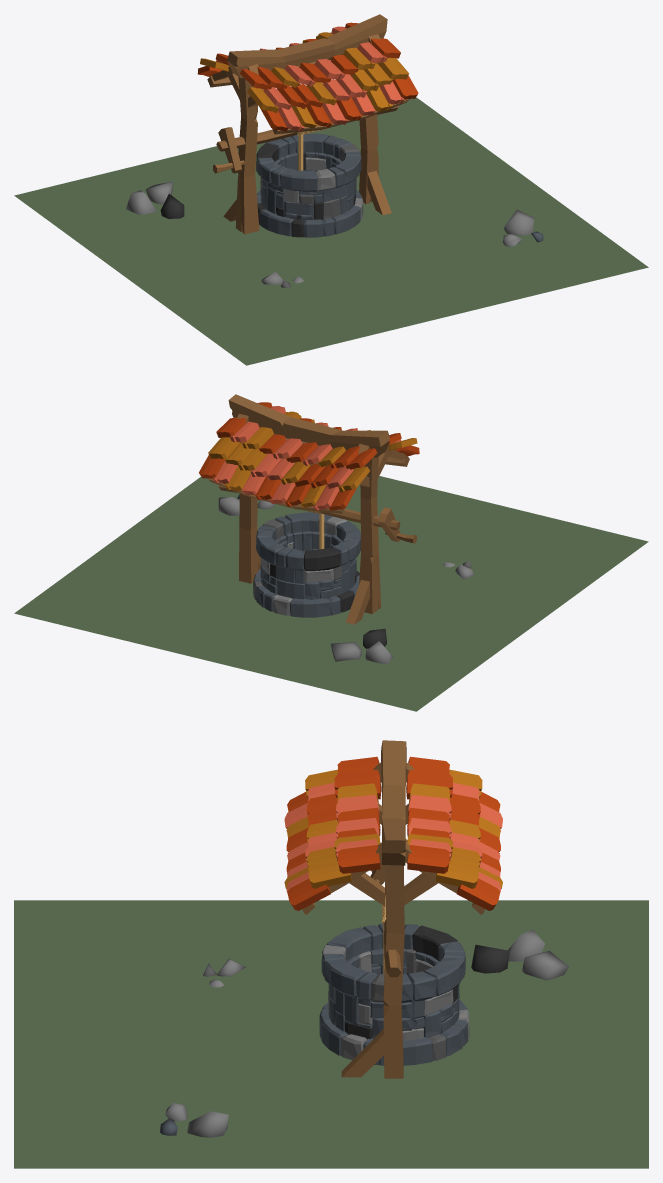
The model's file is low_poly_well-05.glb.
The picture shows the model from 3 angles, top to bottom: view 1: azimuth 30°, elevation 25°; view 2: azimuth 150°, elevation 25°; view 3: azimuth 270°, elevation 25°; orthographic projection. The views are drawn at different scales.
Visible parts, largest first — view 1: Plane, top, middle, Cube.005, Cube.001, base, Cube, tile.012, Cube.007, shaft, Cube.002, rock.019 (+3 smaller); view 2: Plane, top, middle, Cube.005, Cube.001, base, Cube, Cube.008, tile.012, Cube.002, tile.001, shaft (+2 smaller); view 3: Plane, top, middle, Cube, base, Cube.005, tile.030, tile.011, tile.010, tile.022, Cube.004, tile.024 (+19 smaller).
Boxes of the visible parts, x1,y1,x2,y2 form: Plane: [14, 97, 648, 365]; top: [256, 133, 361, 191]; middle: [260, 152, 356, 219]; Cube.005: [227, 14, 387, 78]; Cube.001: [235, 77, 259, 234]; base: [256, 190, 363, 237]; Cube: [359, 114, 378, 203]; tile.012: [200, 58, 278, 112]; Cube.007: [367, 170, 391, 215]; shaft: [216, 105, 398, 151]; Cube.002: [207, 54, 409, 134]; rock.019: [504, 209, 534, 235]; Plane: [14, 458, 648, 711]; top: [256, 512, 360, 570]; middle: [260, 531, 356, 599]; Cube.005: [228, 394, 389, 457]; Cube.001: [359, 456, 380, 614]; base: [253, 568, 359, 617]; Cube: [239, 493, 258, 583]; Cube.008: [345, 580, 369, 624]; tile.012: [338, 438, 417, 492]; Cube.002: [207, 437, 409, 513]; tile.001: [329, 445, 419, 510]; shaft: [218, 485, 400, 530]; Plane: [14, 900, 648, 1168]; top: [321, 923, 465, 1002]; middle: [328, 948, 459, 1040]; Cube: [383, 865, 404, 1078]; base: [319, 1000, 469, 1065]; Cube.005: [381, 740, 406, 865]; tile.030: [337, 845, 449, 873]; tile.011: [308, 859, 479, 888]; tile.010: [287, 878, 500, 910]; tile.022: [334, 769, 452, 799]; Cube.004: [349, 803, 438, 906]; tile.024: [336, 794, 451, 820].
Size of the model in its own units: 8 by 3.72 by 8.
